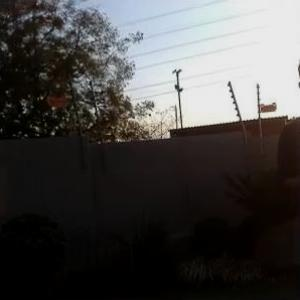follow: (274, 52, 299, 299)
